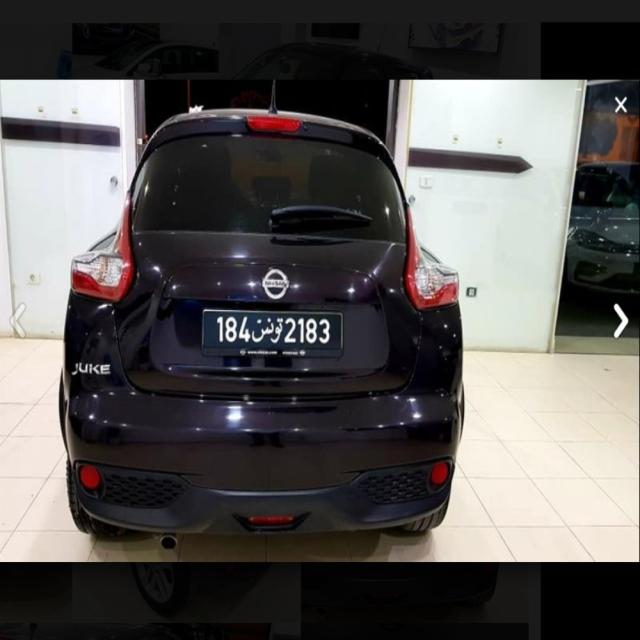LP: (198, 305, 345, 357)
